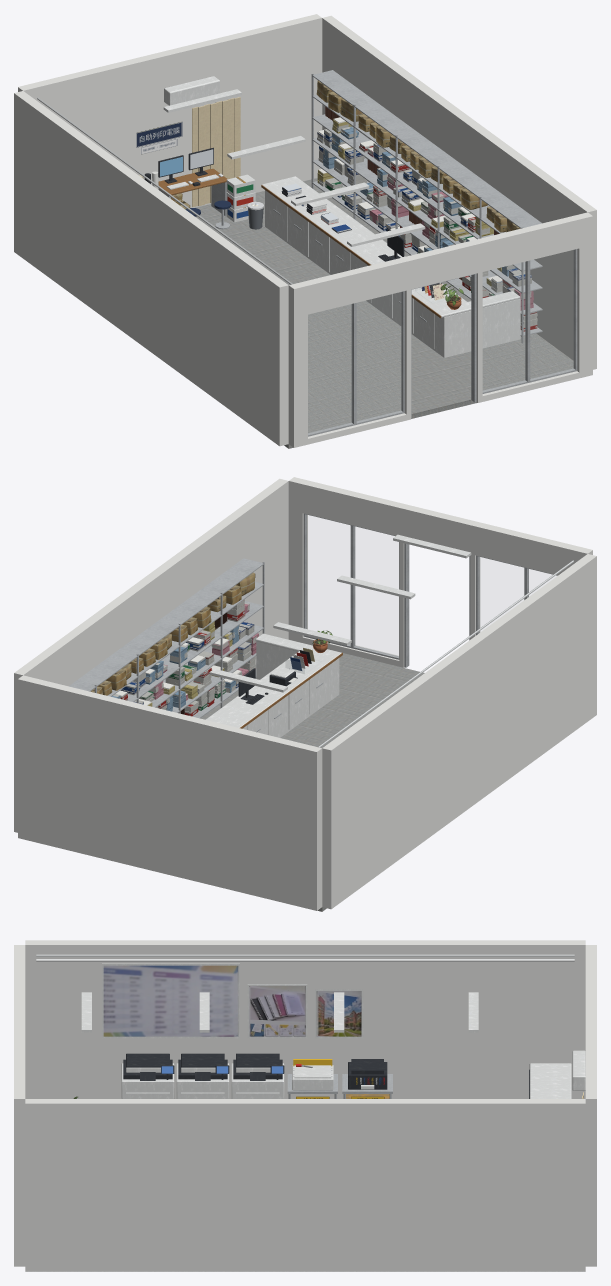
File: tz_yindehao_interior.glb
3 views of the same model, one above another, from view 1: azimuth 30°, elevation 25°; view 2: azimuth 150°, elevation 25°; view 3: azimuth 270°, elevation 25° (orthographic). The views are drawn at different scales.
Visible parts, largest first — view 1: WALL_W, WALL_N, S_floor, WALL_S, WALL_E, S_plastic_w, S_steel, WALL_Sfix_steel, S_vc, S_cloth_b, tz_yindehao_interior_inst.001, S_ream_w (+9 smaller); view 2: WALL_N, WALL_W, WALL_E, WALL_S, S_steel, S_plastic_w, S_floor, WALL_Sfix_steel, tz_yindehao_interior_inst.001, CEIL_plastic_w, S_vc, S_ream_w2 (+6 smaller); view 3: WALL_E, WALL_W, S_pics, S_plastic_w, S_plastic_dk, WALL_N, WALL_S, S_vc, CEIL_plastic_w, S_steel, S_floor.
Part boxes in pixels (box(x1,y1,x2,y2)): WALL_W: box(14, 91, 288, 446); WALL_N: box(18, 14, 322, 207); S_floor: box(195, 178, 573, 448); WALL_S: box(288, 212, 592, 447); WALL_E: box(322, 15, 596, 369); S_plastic_w: box(164, 76, 520, 357); S_steel: box(158, 70, 542, 343); WALL_Sfix_steel: box(308, 249, 577, 436); S_vc: box(37, 97, 502, 299); S_cloth_b: box(192, 97, 240, 207); tz_yindehao_interior_inst.001: box(171, 80, 519, 232); S_ream_w: box(317, 129, 531, 292); WALL_N: box(18, 675, 322, 910); WALL_W: box(322, 554, 596, 909); WALL_E: box(14, 478, 288, 832); WALL_S: box(288, 477, 592, 667); S_steel: box(69, 558, 323, 732); S_plastic_w: box(205, 633, 341, 737); S_floor: box(200, 653, 424, 911); WALL_Sfix_steel: box(303, 513, 557, 667); tz_yindehao_interior_inst.001: box(91, 572, 255, 695); CEIL_plastic_w: box(209, 534, 471, 692); S_vc: box(116, 560, 573, 747); S_ream_w2: box(120, 599, 255, 716); WALL_E: box(25, 1099, 585, 1271); WALL_W: box(25, 940, 585, 1098); S_pics: box(103, 965, 361, 1036); S_plastic_w: box(102, 963, 585, 1098); S_plastic_dk: box(123, 1053, 529, 1098); WALL_N: box(585, 945, 596, 1266); WALL_S: box(14, 945, 25, 1266); S_vc: box(36, 954, 574, 1084); CEIL_plastic_w: box(81, 992, 478, 1032); S_steel: box(287, 1065, 392, 1098); S_floor: box(25, 1271, 585, 1271).
Size of the model in its own units: 6.9 by 3.4 by 10.4.
Materials: 29 (24 with a texture image).
